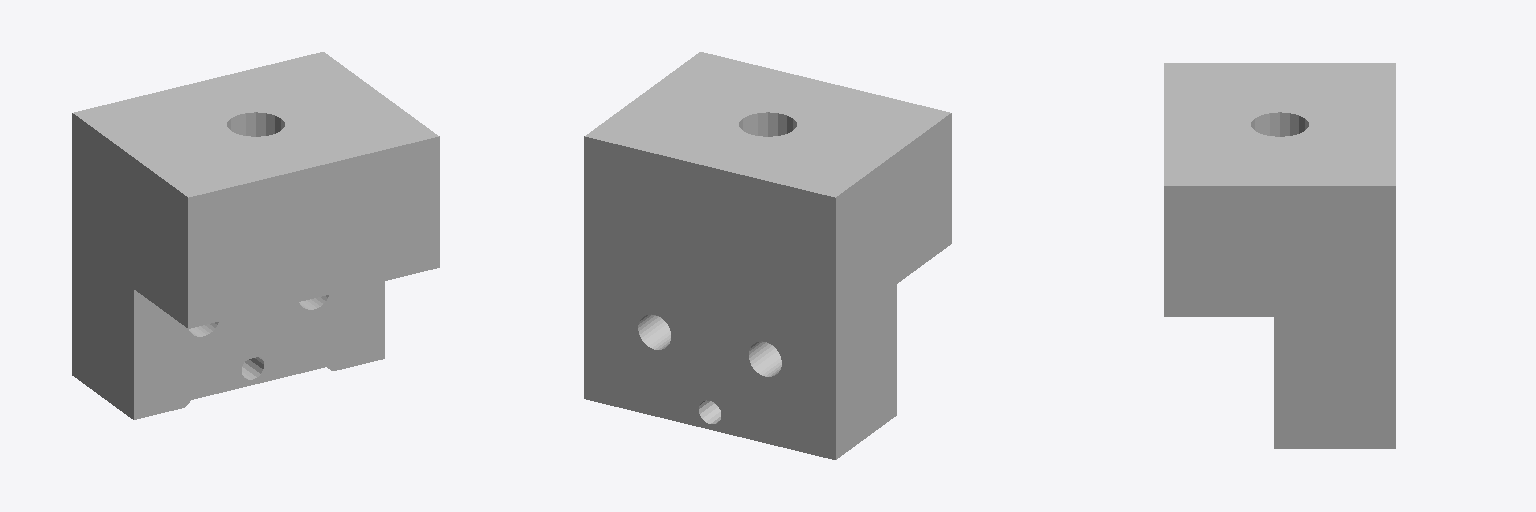
File: external_retaining_ring_holder1.obj
3 views of the same model, side by side, from view 1: azimuth 30°, elevation 25°; view 2: azimuth 150°, elevation 25°; view 3: azimuth 270°, elevation 25° (orthographic).
Visible parts, largest first — view 1: 1; view 2: 1; view 3: 1.
Part boxes in pixels (x1,y1,x2,y2): 1: (72,52,439,419); 1: (584,52,951,459); 1: (1164,63,1395,448).
Size of the model in its own units: 25 by 25 by 20.